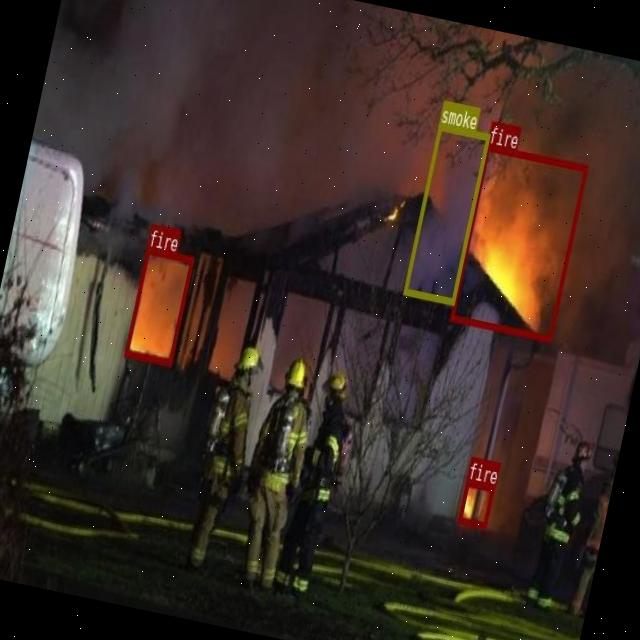fire: (449, 143, 587, 340), (124, 245, 194, 365), (457, 479, 495, 528)
smoke: (402, 124, 490, 304)
